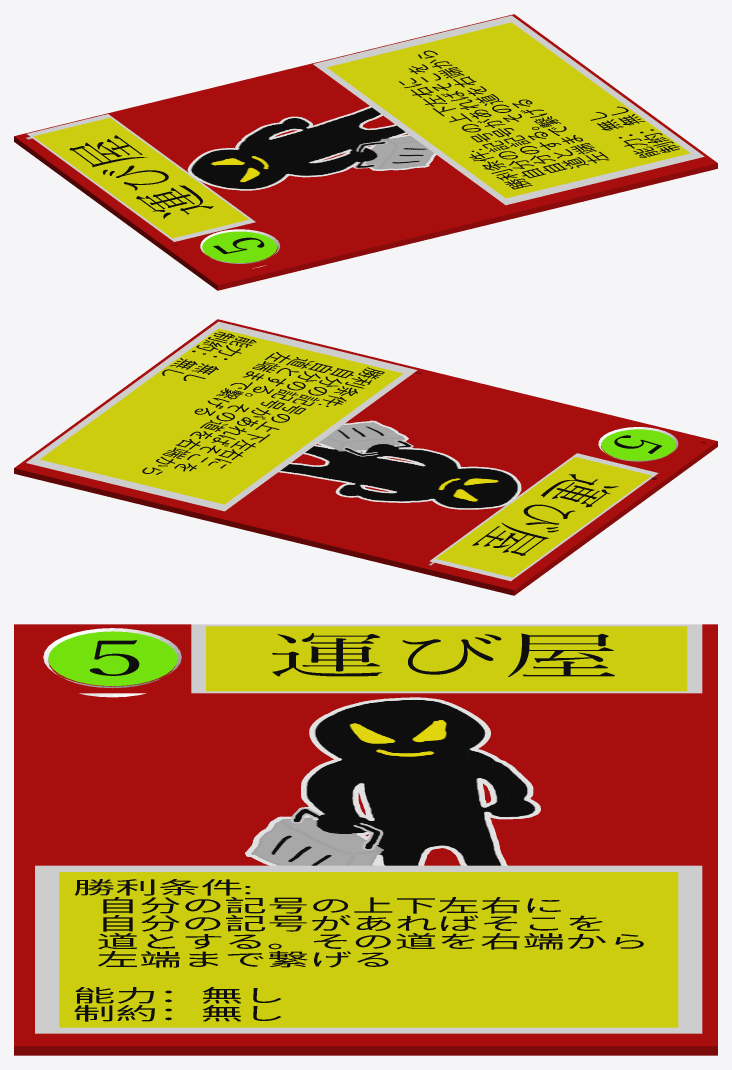
Rendered from 運び屋赤.fbx.
3 views of the same model, one above another, from view 1: azimuth 30°, elevation 25°; view 2: azimuth 150°, elevation 25°; view 3: azimuth 270°, elevation 25° (orthographic). The views are drawn at different scales.
Parts seen in each view (by area): view 1: カード本体.001, 説明欄, 平面.001, 名前欄, 説明文, 円, 平面, 名前; view 2: カード本体.001, 説明欄, 平面.001, 名前欄, 説明文, 円, 平面, 名前; view 3: カード本体.001, 説明欄, 平面.001, 名前欄, 説明文, 平面, 円, 名前, コスト蘭.
Boxes of the visible parts, <box> form: カード本体.001: <box>14,14,717,290</box>; 説明欄: <box>313,15,704,205</box>; 平面.001: <box>187,106,436,190</box>; 名前欄: <box>27,114,255,241</box>; 説明文: <box>399,50,679,189</box>; 円: <box>202,231,276,262</box>; 平面: <box>174,222,302,275</box>; 名前: <box>69,135,213,218</box>; カード本体.001: <box>14,319,717,595</box>; 説明欄: <box>26,321,417,511</box>; 平面.001: <box>278,420,521,509</box>; 名前欄: <box>429,453,658,581</box>; 説明文: <box>142,331,384,474</box>; 円: <box>601,429,675,460</box>; 平面: <box>577,419,704,472</box>; 名前: <box>472,474,618,555</box>; カード本体.001: <box>14,624,717,1055</box>; 説明欄: <box>35,865,702,1033</box>; 平面.001: <box>245,697,540,865</box>; 名前欄: <box>191,624,702,693</box>; 説明文: <box>74,879,643,1021</box>; 平面: <box>30,624,191,693</box>; 円: <box>48,631,177,686</box>; 名前: <box>272,633,614,676</box>; コスト蘭: <box>43,628,181,697</box>.
Size of the model in its own units: 281 by 6.07 by 198.
